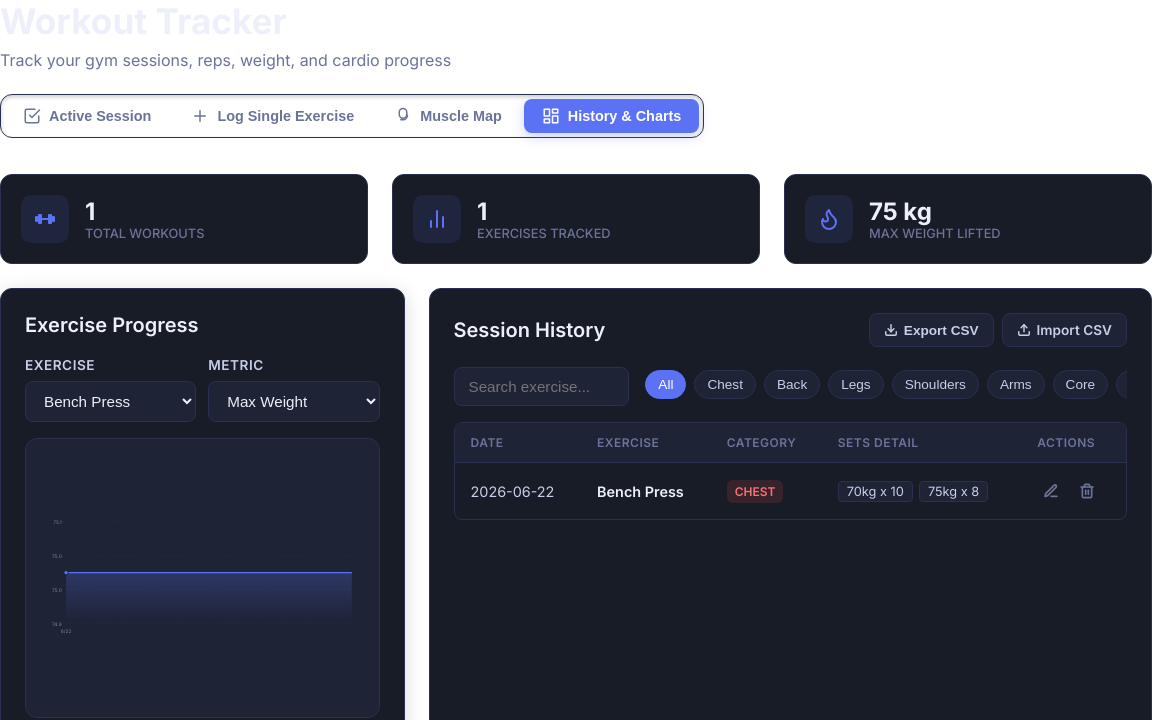
WorkoutPage › supports expanding correct-form guides for exercises
Expected: the text "75 kg" is shown, [869, 197, 932, 226]
# Switch to Active Gym Session mode
Click the button "Active Session": [87, 116] box [5, 99, 169, 133]
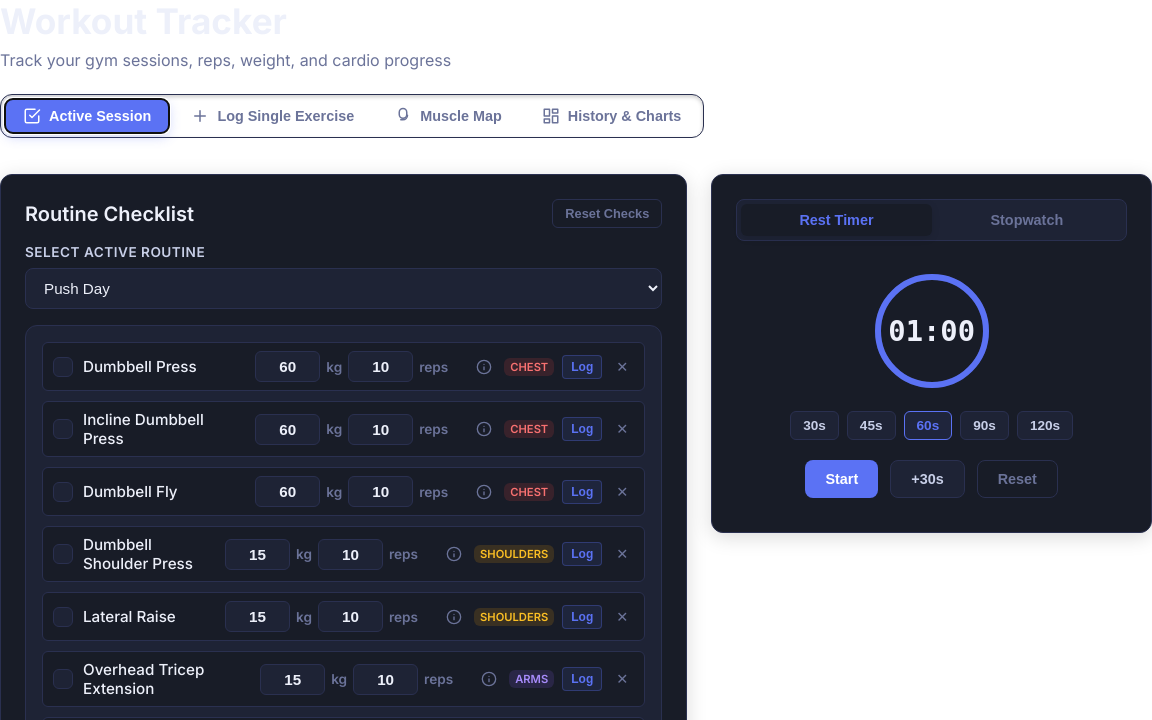
# Expand guide for Dumbbell Press
Click the 1st button titled "View form guide": [484, 366] box [472, 354, 496, 378]
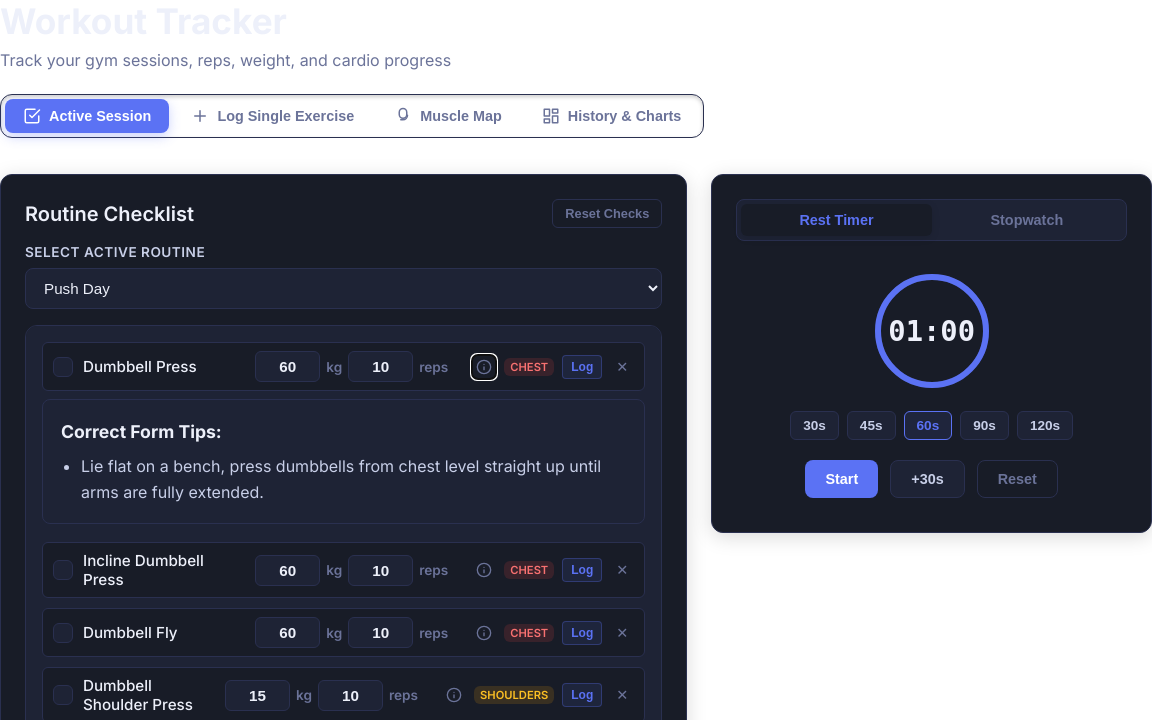
Expected: the text "Correct Form Tips:" is shown, [61, 421, 222, 442]
Expected: the list item "Lie flat on a bench" is shown, [81, 456, 601, 502]
